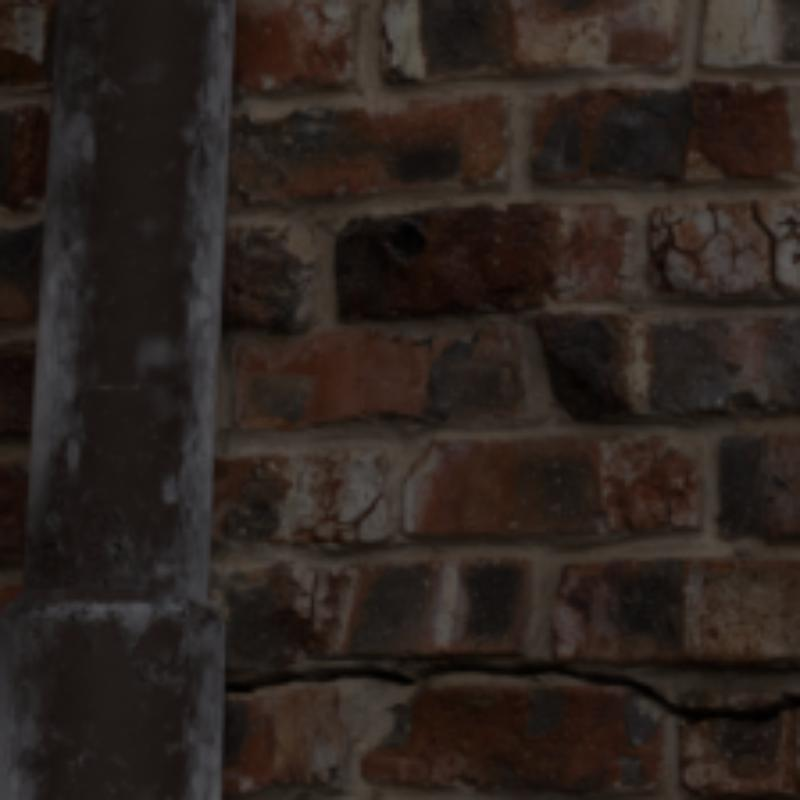crack: (225, 661, 796, 721), (775, 282, 789, 296), (757, 214, 764, 229), (764, 229, 771, 243), (771, 268, 775, 279), (754, 204, 757, 211)
